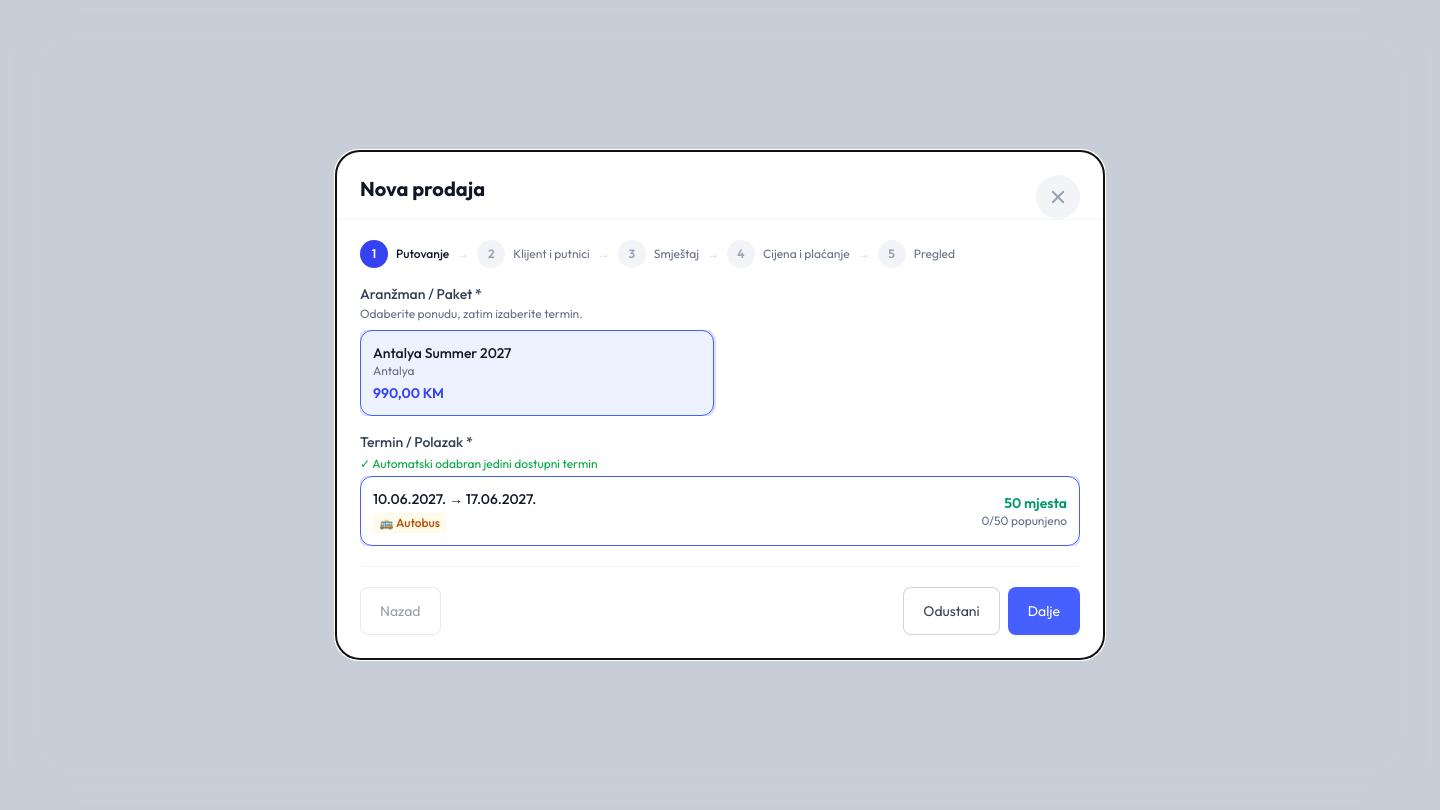
NewSaleWizard — M03.1 step structure › departure with accommodation: Trip → Travelers → Accommodation → Payment → Review
Expected: the text "Antalya Summer 2027" is shown, x1=373 y1=344 x2=511 y2=362
Expected: the text "Smještaj" is shown, x1=654 y1=246 x2=699 y2=262
Trip → Travelers
Click the button "Dalje" at (1044, 611), box x1=1008 y1=587 x2=1080 y2=635
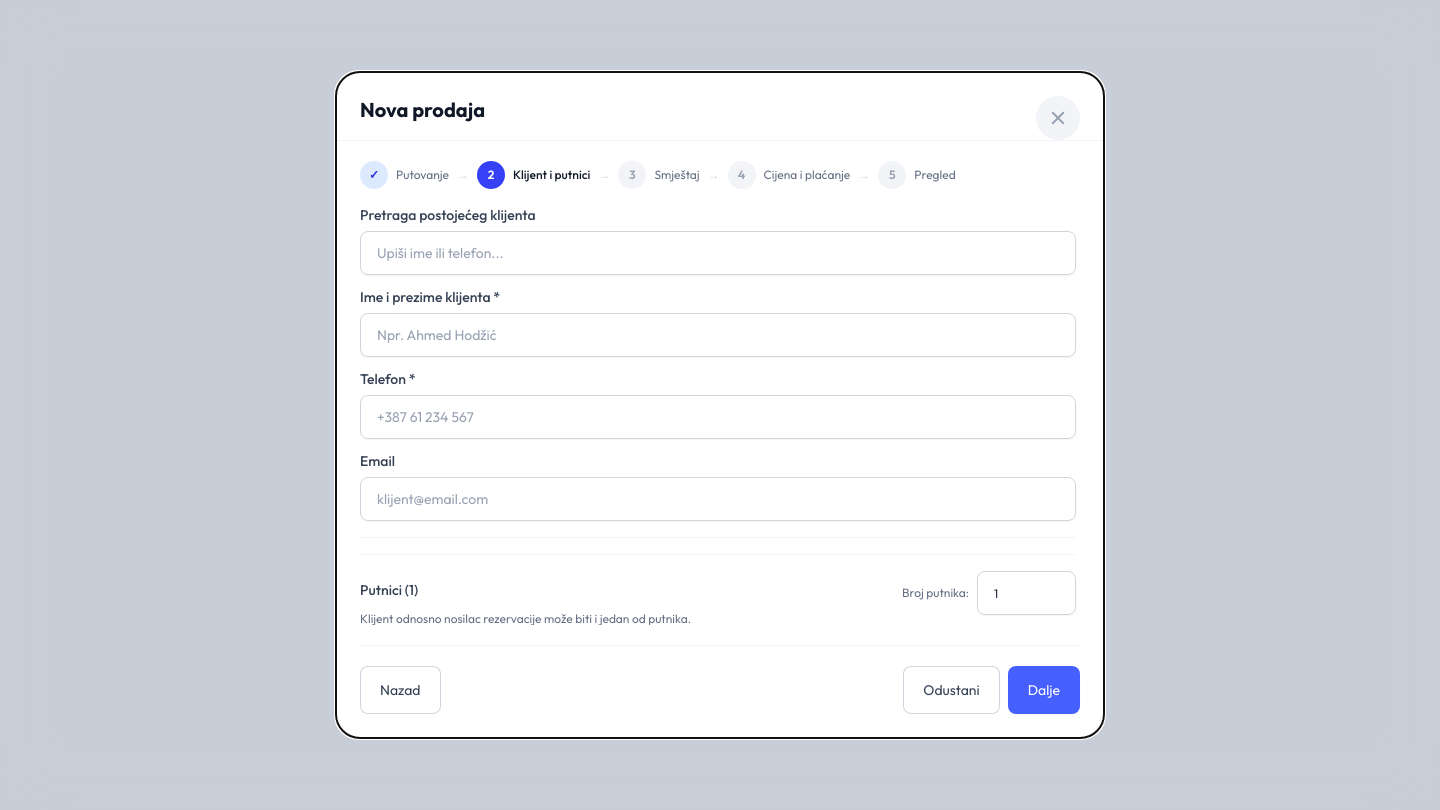
Type "Amina Hadžić" into the field with placeholder "Npr. Ahmed Hodžić" at (718, 335), box x1=360 y1=313 x2=1076 y2=357
Type "+38761100001" into the field with placeholder "+387 61 234 567" at (718, 417), box x1=360 y1=395 x2=1076 y2=439
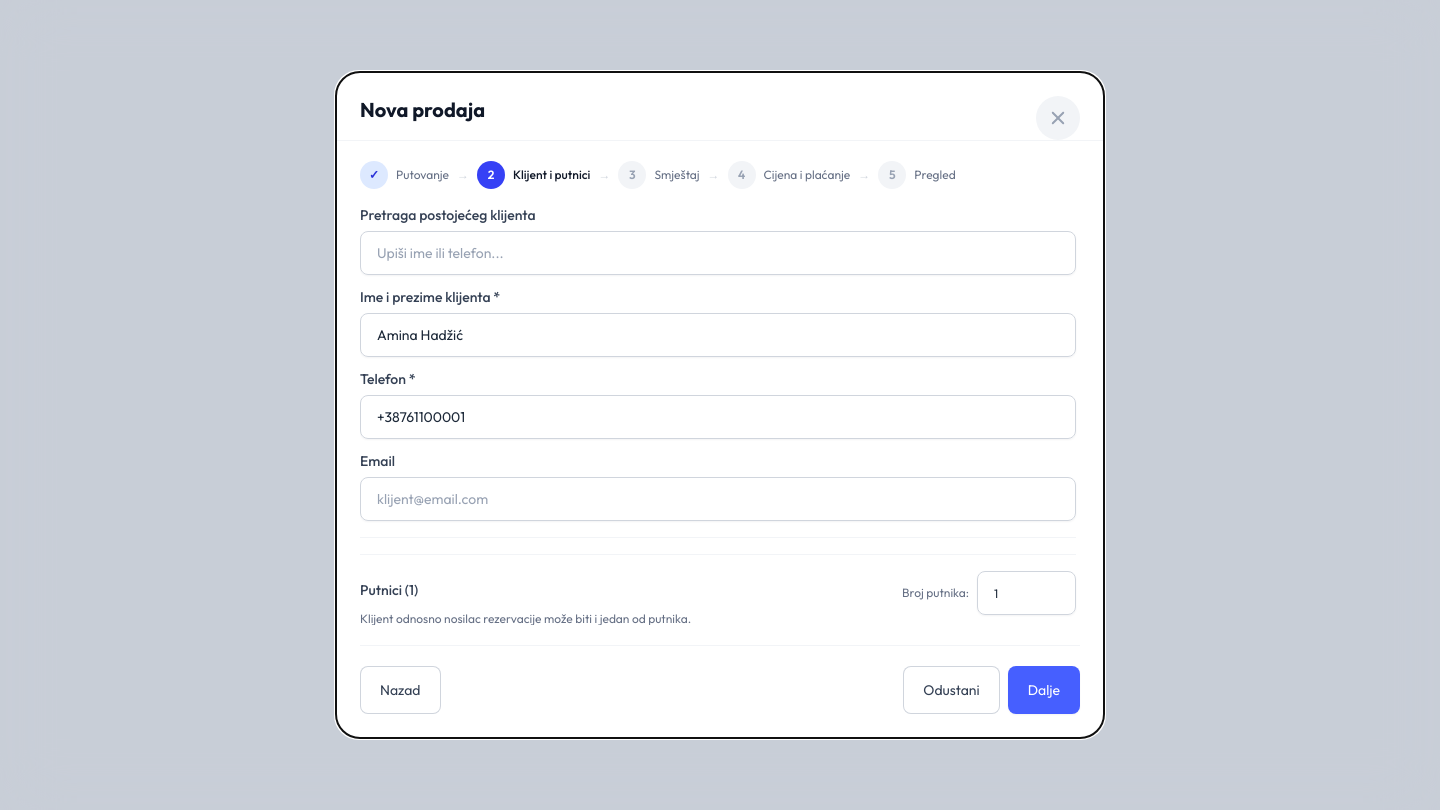
Travelers → Accommodation
Click the button "Dalje" at (1044, 690), box x1=1008 y1=666 x2=1080 y2=714
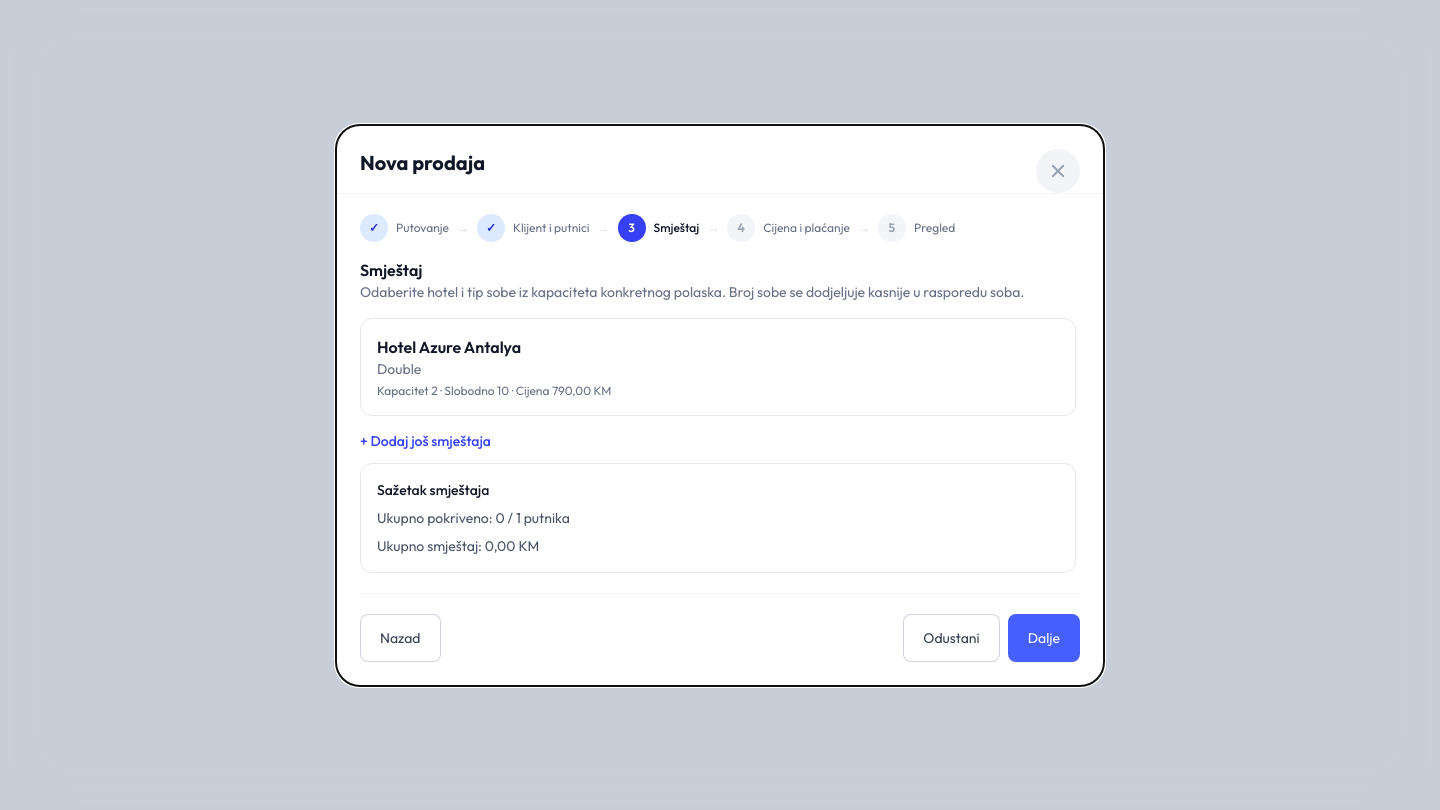
Now the text "Hotel Azure Antalya" is shown, box x1=377 y1=336 x2=521 y2=356
Back from Accommodation → Travelers
Click the button "Nazad" at (400, 638), box x1=360 y1=614 x2=440 y2=662
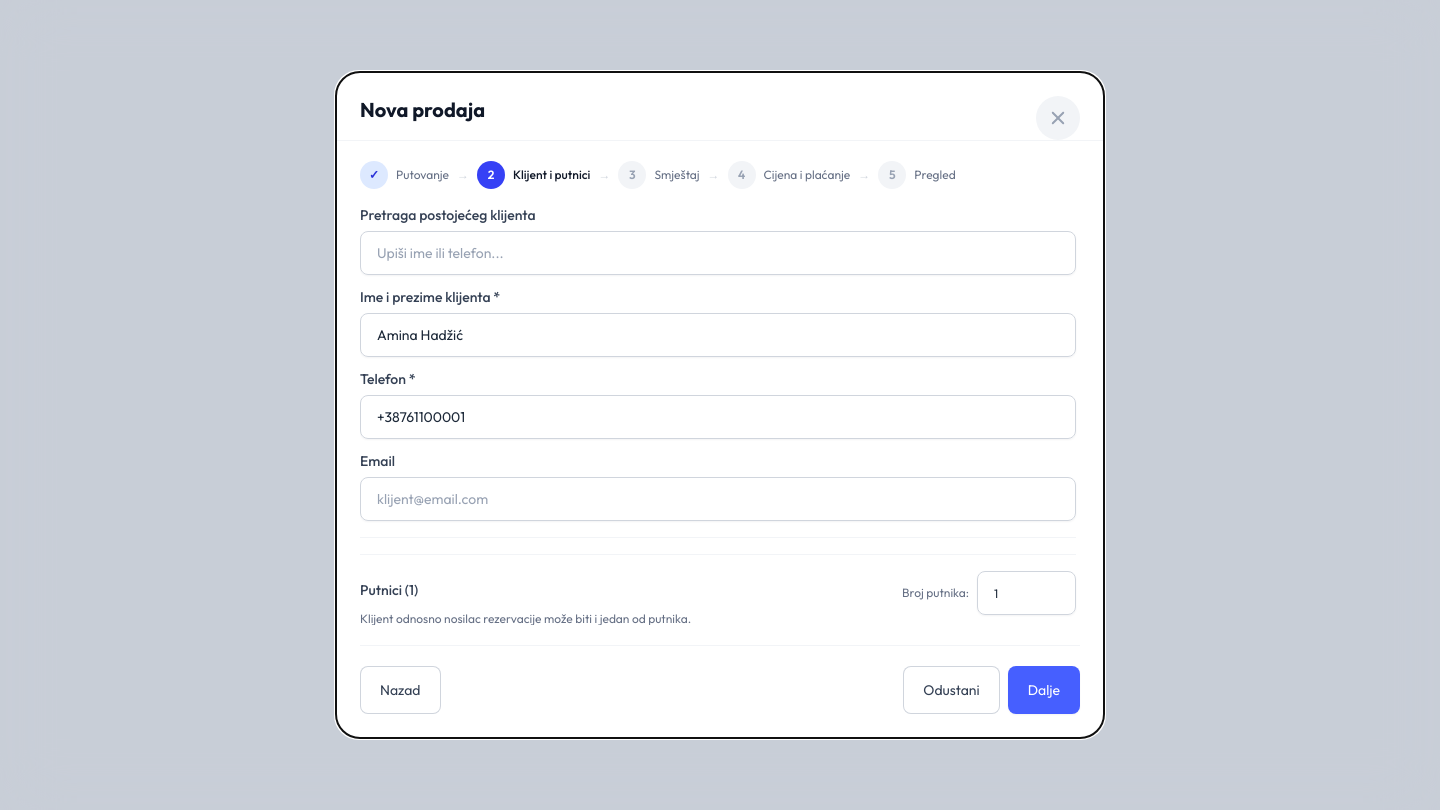
Now the text "Ime i prezime klijenta *" is shown, box x1=360 y1=288 x2=500 y2=306
Travelers → Accommodation → Payment
Click the button "Dalje" at (1044, 690), box x1=1008 y1=666 x2=1080 y2=714
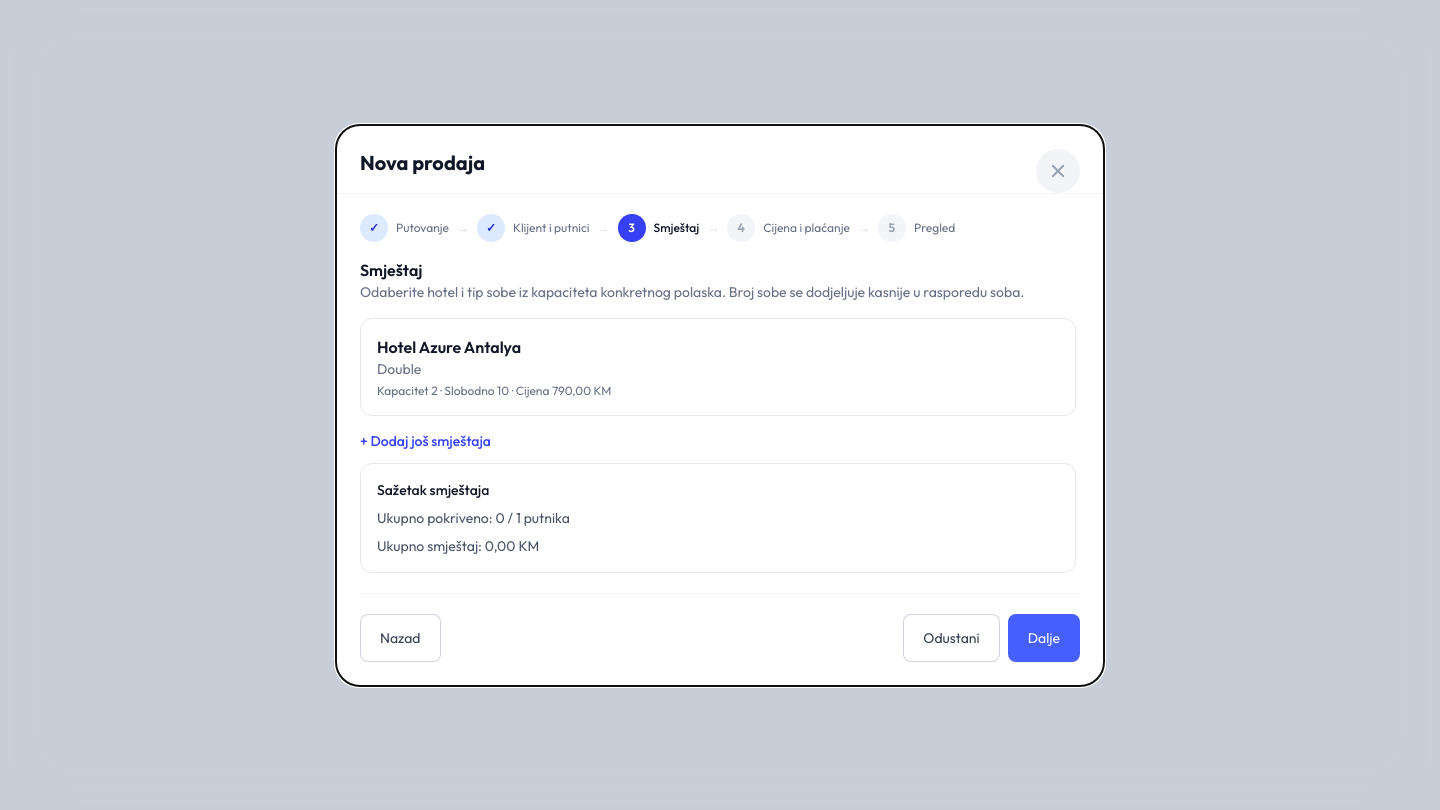
Now the text "Hotel Azure Antalya" is shown, box x1=377 y1=336 x2=521 y2=356
Click the button "Dalje" at (1044, 638), box x1=1008 y1=614 x2=1080 y2=662
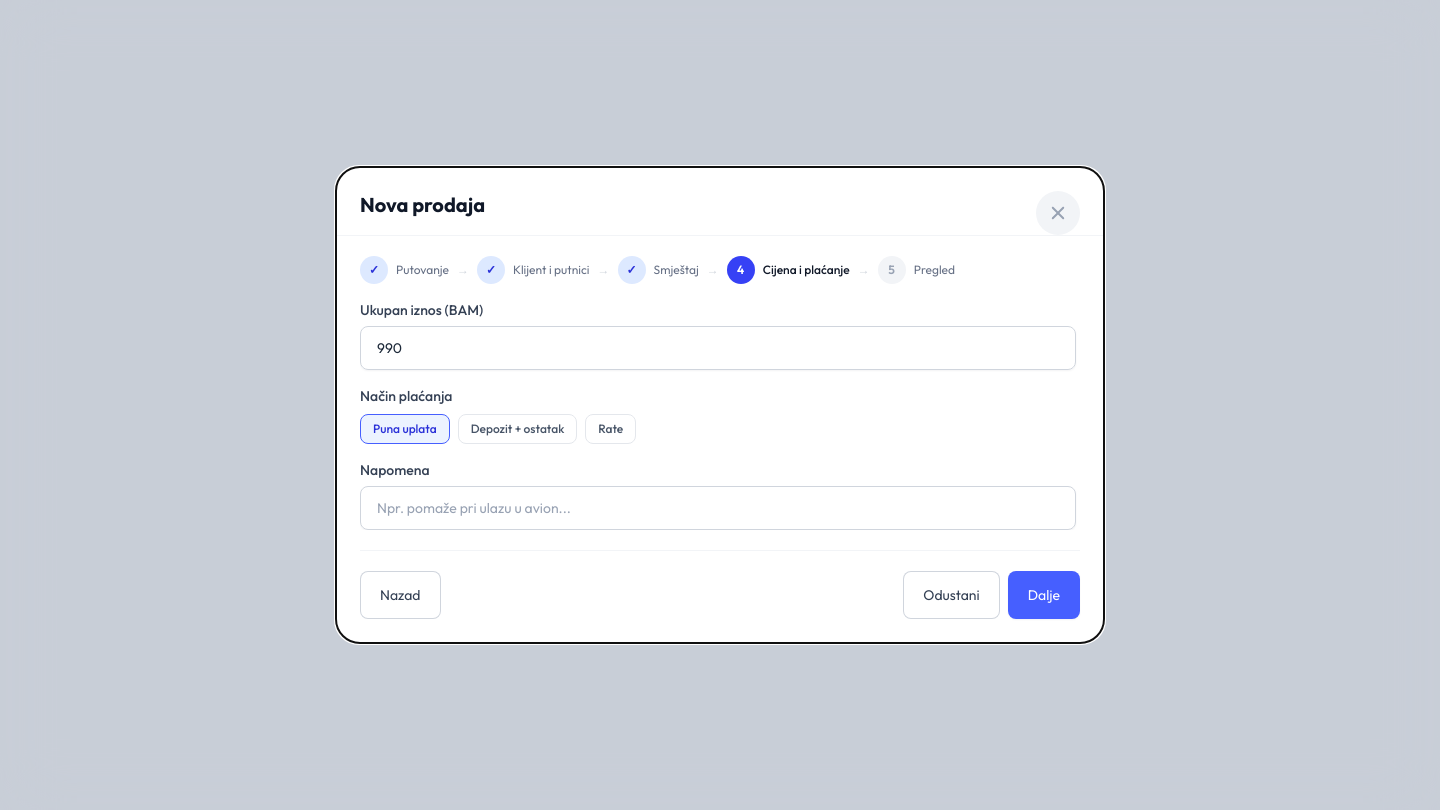
Now the text "Ukupan iznos (BAM)" is shown, box x1=360 y1=301 x2=483 y2=319
